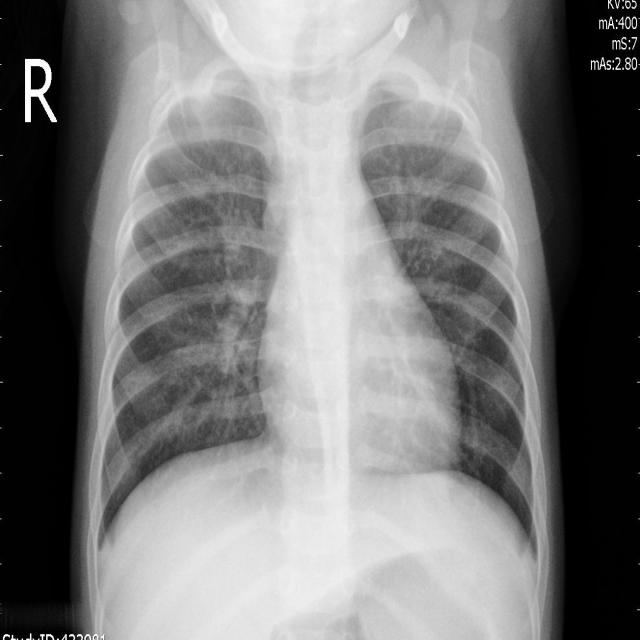low-pneumonia: (158, 67, 285, 368), (366, 57, 482, 289), (457, 341, 514, 475)
